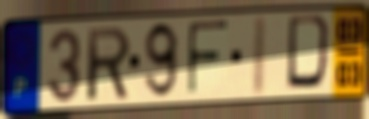3: (45, 26, 82, 105)
9: (142, 20, 181, 102)
D: (284, 12, 336, 94)
F: (186, 18, 231, 99)
I: (249, 14, 269, 100)
R: (85, 24, 133, 105)
